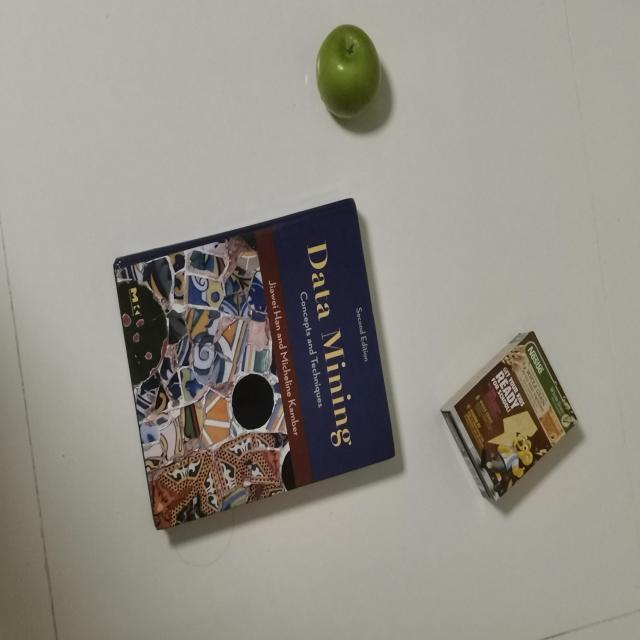Apple: (315, 20, 388, 120)
Book: (98, 195, 407, 538)
Cerealbox: (438, 327, 580, 521)
